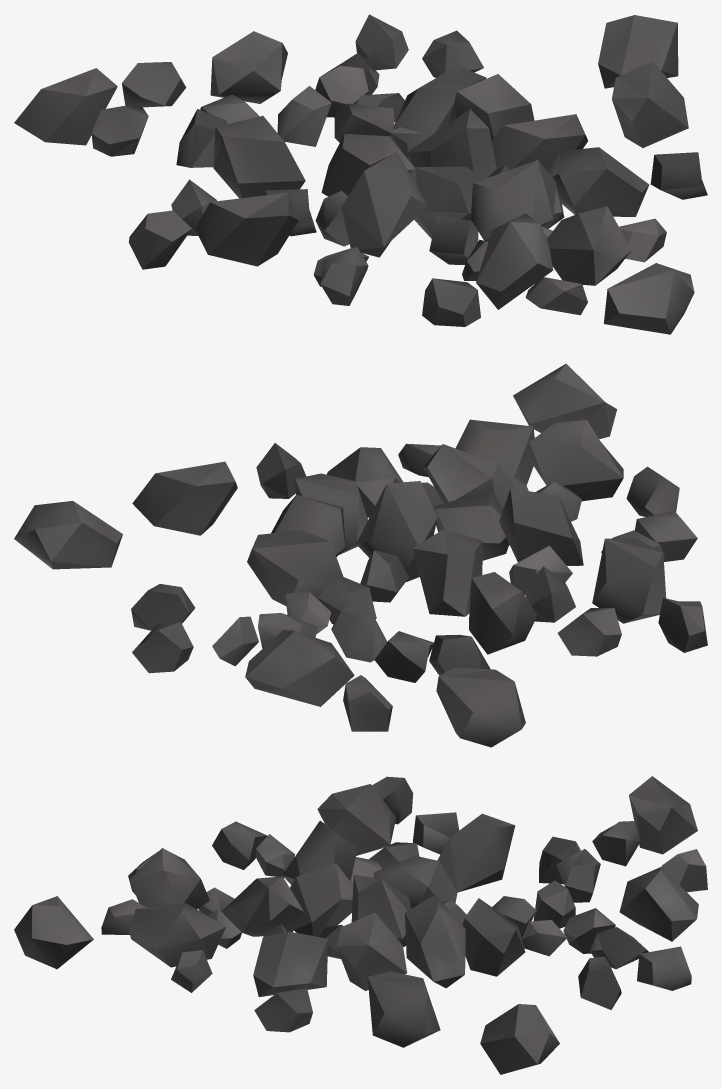
Rendered from Stone rubble.fbx.
The picture shows the model from 3 angles, top to bottom: view 1: azimuth 30°, elevation 25°; view 2: azimuth 150°, elevation 25°; view 3: azimuth 270°, elevation 25°; orthographic projection. The views are drawn at different scales.
Parts seen in each view (by area): view 1: Stone_Rubble; view 2: Stone_Rubble; view 3: Stone_Rubble.
Part boxes in pixels (x1,y1,x2,y2): Stone_Rubble: (14,14,707,334); Stone_Rubble: (14,363,707,747); Stone_Rubble: (14,776,707,1074).
Bounding box in the file's own units: 439 × 56.3 × 470.
Materials: 1 (1 with a texture image).
